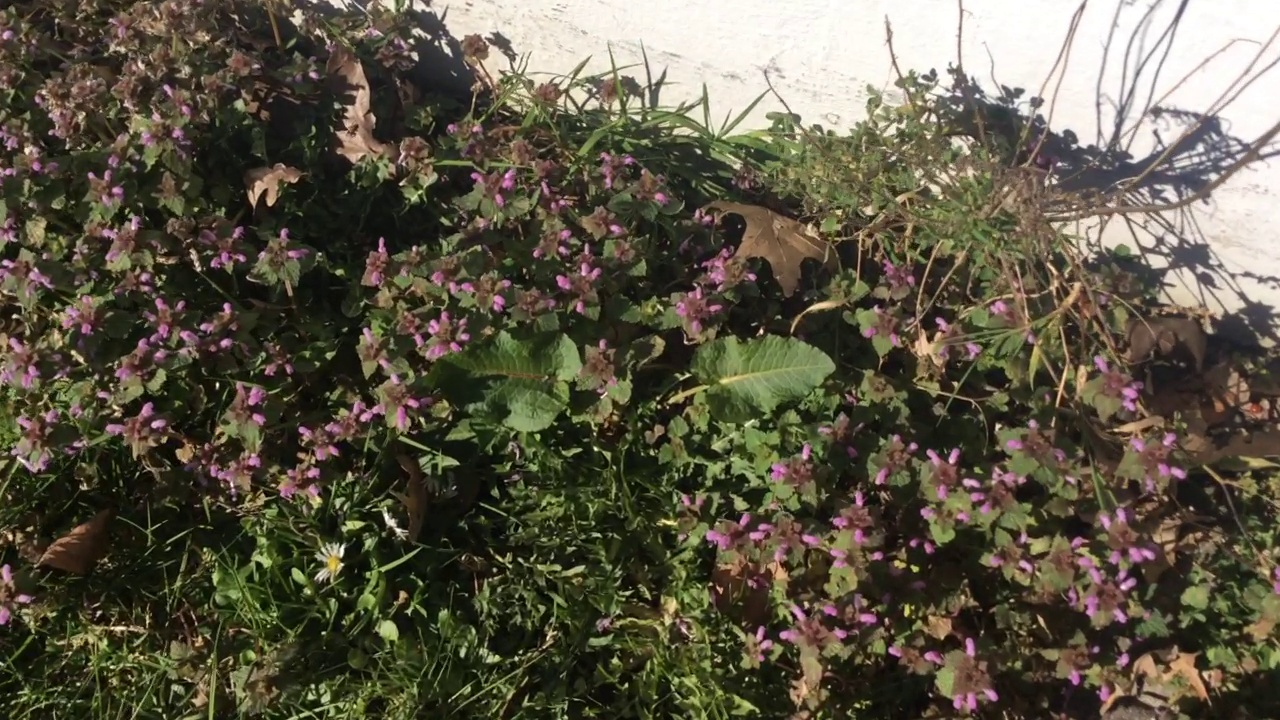rumex: (408, 332, 838, 433)
